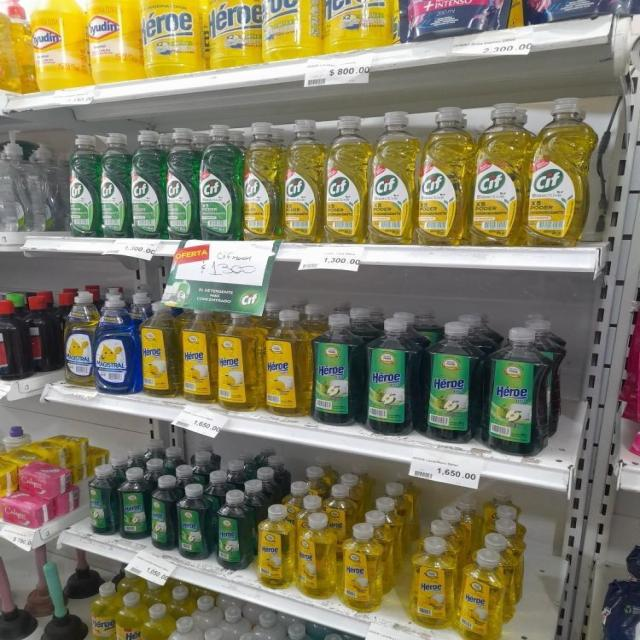cif_conc_bot_amarilla: (528, 96, 592, 248), (471, 100, 525, 248), (418, 104, 468, 245), (368, 110, 416, 245), (324, 113, 367, 244), (282, 117, 323, 243), (242, 120, 281, 242)
cif_conc_botella_verde: (199, 122, 241, 240), (165, 125, 198, 240), (130, 128, 164, 239), (67, 132, 99, 238), (100, 132, 130, 238)
cif_conc_sachet_amarillo: (324, 0, 400, 51), (207, 0, 263, 68), (264, 0, 321, 60)
heroe: (264, 308, 311, 418), (257, 503, 294, 590), (120, 466, 148, 541)
magistral_con_amarillo: (63, 290, 94, 388)
magistral_con_azul: (95, 287, 139, 395)
